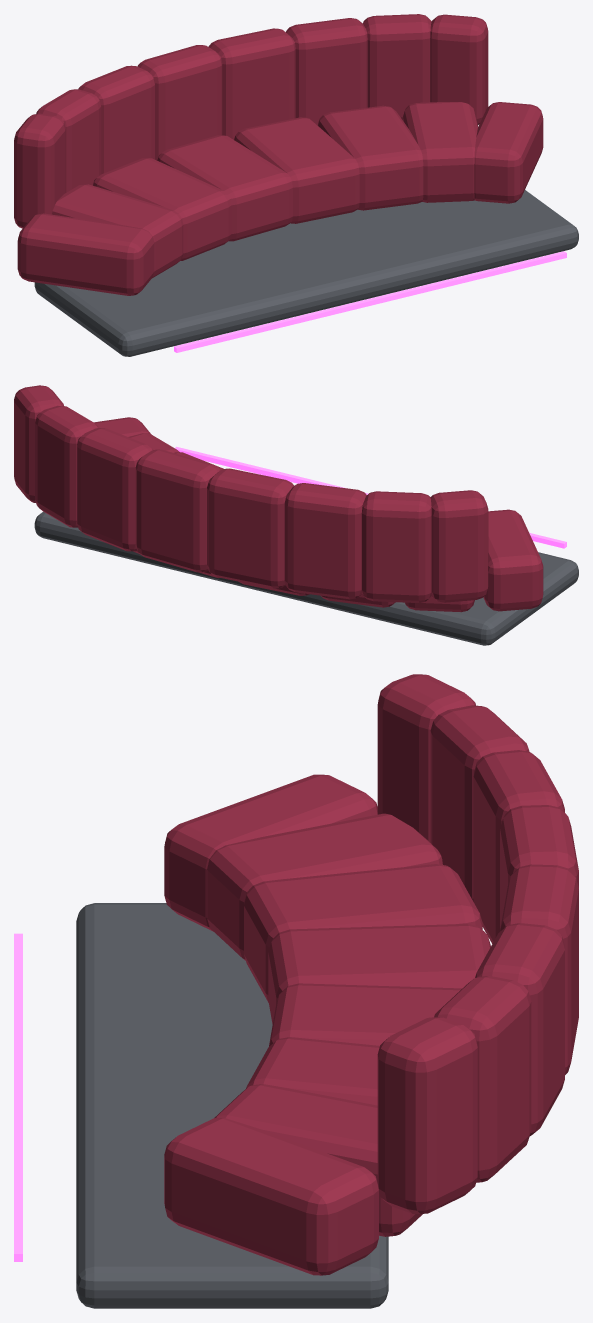
File: sofa_curved.glb
3 views of the same model, one above another, from view 1: azimuth 30°, elevation 25°; view 2: azimuth 150°, elevation 25°; view 3: azimuth 270°, elevation 25° (orthographic). The views are drawn at different scales.
Visible parts, largest first — view 1: GD_sofa_curved__m0, GD_sofa_curved__m1, GD_sofa_curved__m2; view 2: GD_sofa_curved__m0, GD_sofa_curved__m1, GD_sofa_curved__m2; view 3: GD_sofa_curved__m0, GD_sofa_curved__m1, GD_sofa_curved__m2.
Boxes of the visible parts, x1,y1,x2,y2 form: GD_sofa_curved__m0: [14, 14, 543, 295]; GD_sofa_curved__m1: [34, 190, 578, 356]; GD_sofa_curved__m2: [174, 251, 566, 352]; GD_sofa_curved__m0: [14, 385, 543, 612]; GD_sofa_curved__m1: [34, 511, 578, 645]; GD_sofa_curved__m2: [175, 446, 566, 548]; GD_sofa_curved__m0: [164, 674, 578, 1275]; GD_sofa_curved__m1: [76, 903, 388, 1308]; GD_sofa_curved__m2: [14, 933, 22, 1261].
Size of the model in its own units: 2.27 by 0.66 by 1.27.
